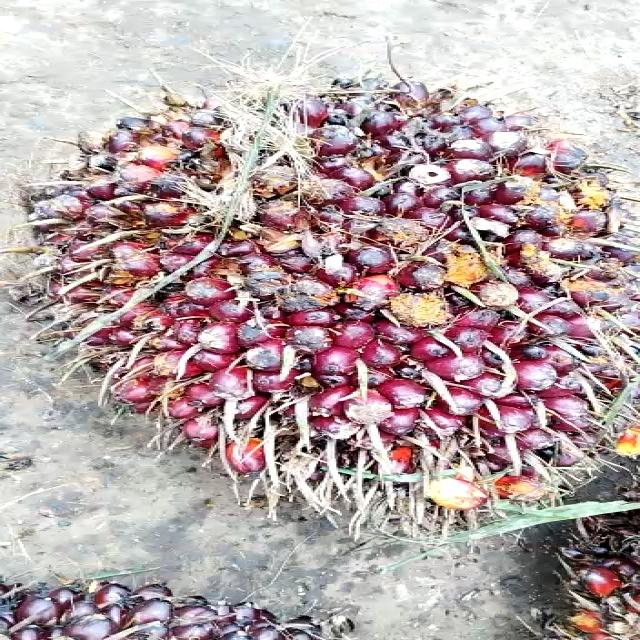palm oil: (5, 80, 640, 542)
